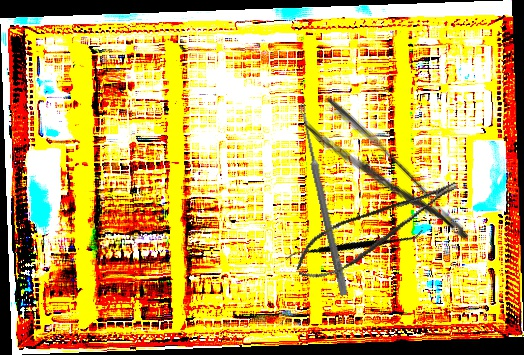Dressing Forceps: (301, 93, 473, 265)
Micro Scissor: (286, 176, 471, 287)
Spatula Surgical: (284, 176, 424, 313)
Surgical Spoon: (296, 102, 350, 297)
